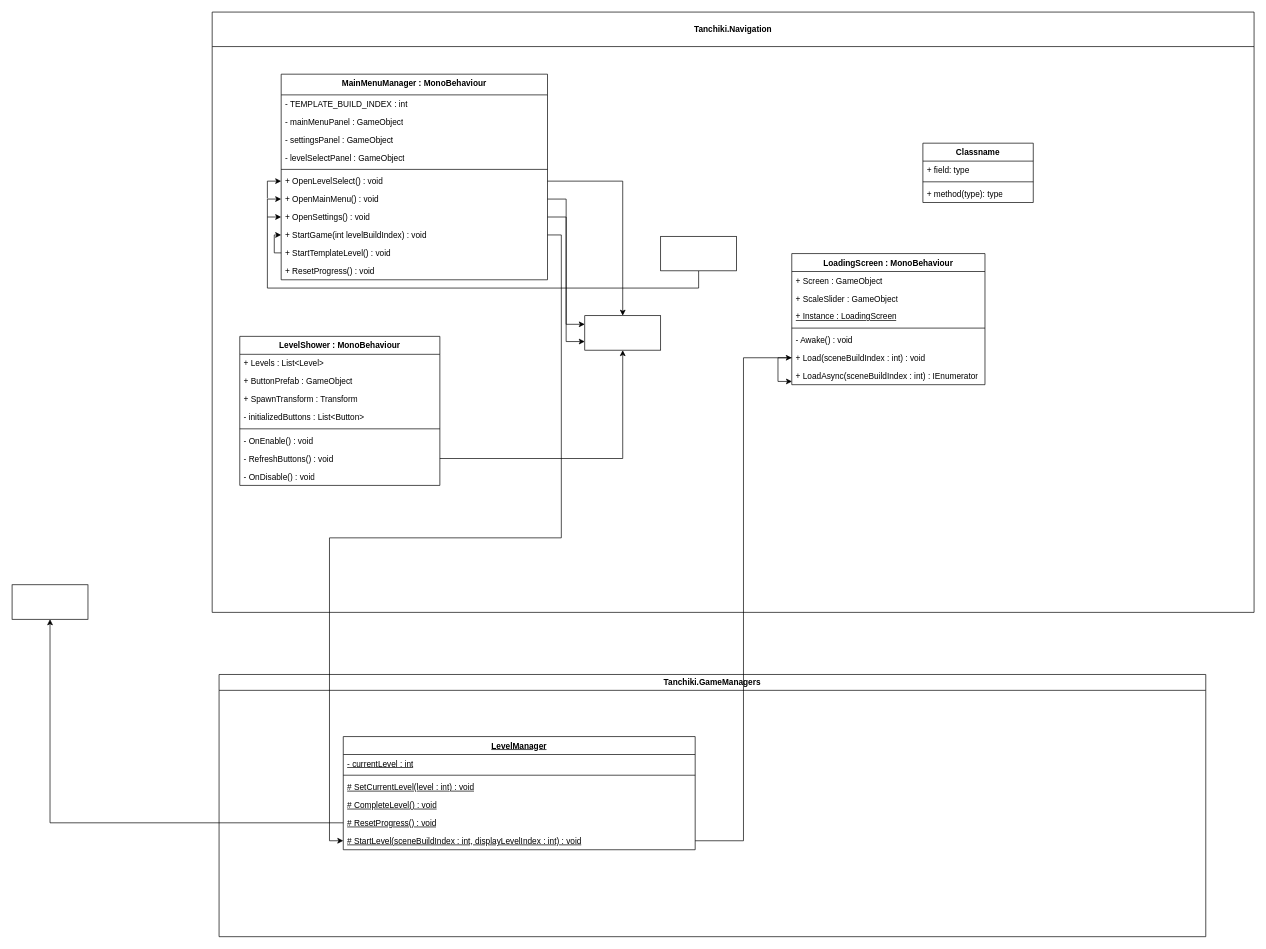
Some shapes in this 1266 by 949 pixel diagram are drawn without their labels. Each missing label, with the centre of its shape:
"MainMenu EventSystem" belongs at (x=698, y=253).
"MainMenuUI" belongs at (x=622, y=332).
"YG2.saves" belongs at (x=49, y=601).
